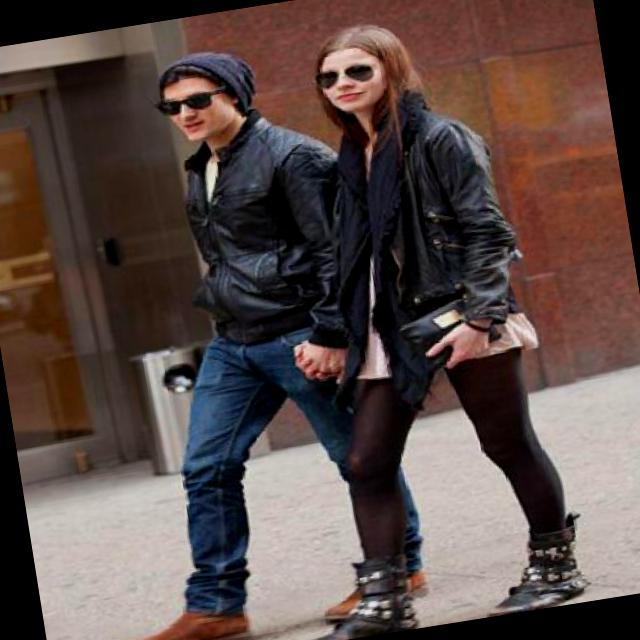Person: (244, 0, 603, 640), (85, 9, 409, 640)
